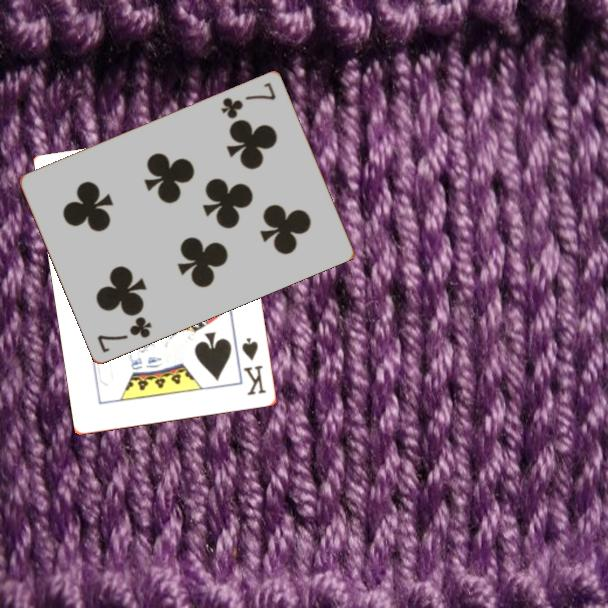c07: (217, 78, 279, 121), (94, 313, 155, 355)
s13: (238, 334, 269, 399)
